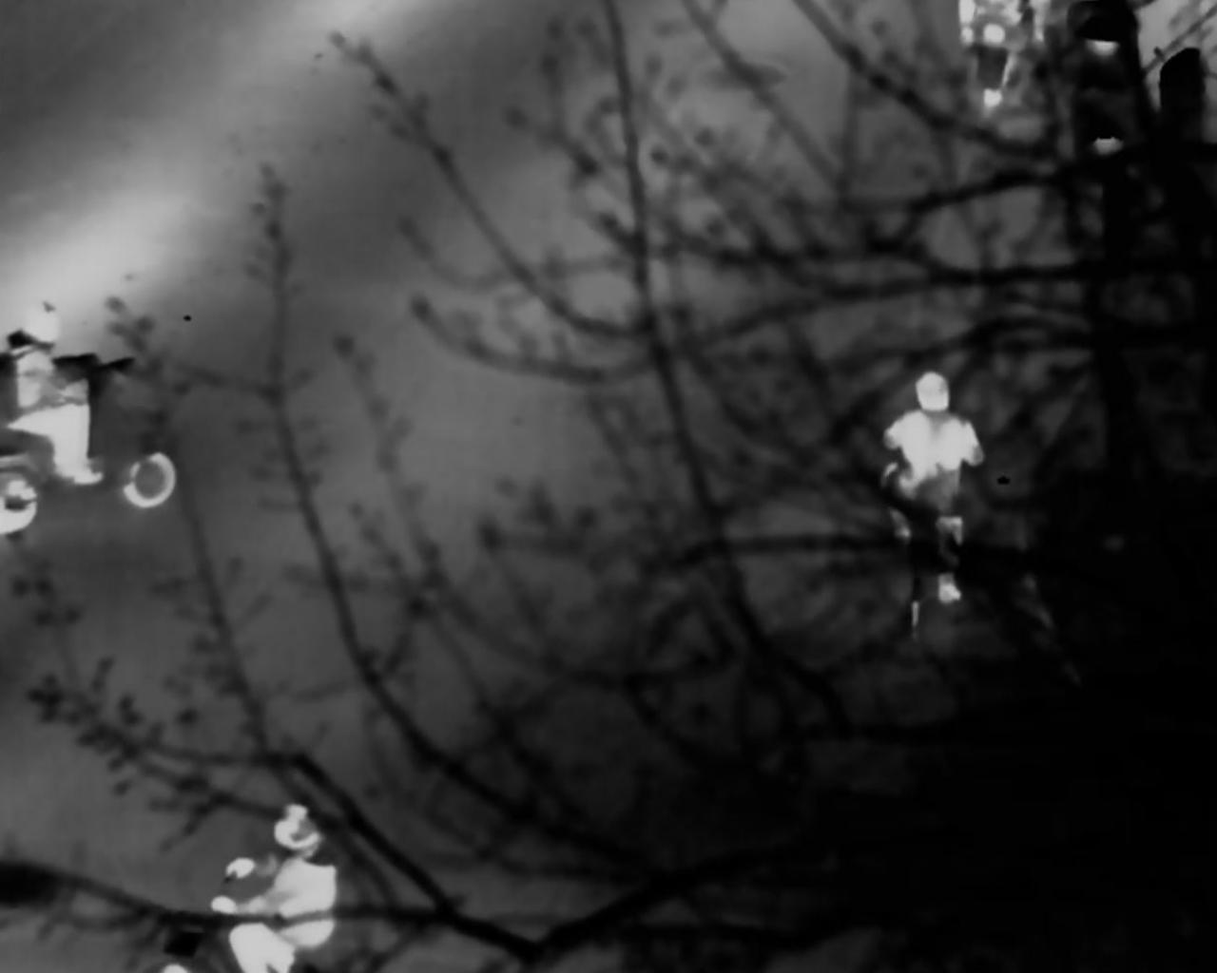person: (885, 366, 984, 609), (215, 808, 366, 966), (10, 304, 112, 499)
